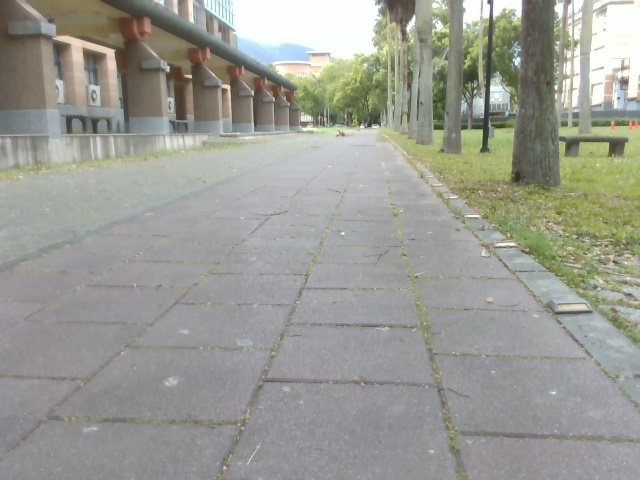grass: (287, 0, 579, 189), (376, 121, 639, 297)
road: (0, 130, 639, 479)
sidewalk: (0, 156, 199, 267), (540, 290, 639, 377)
